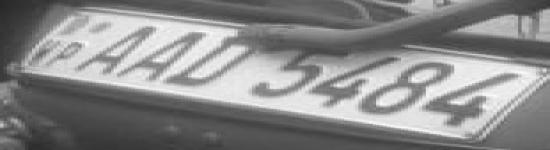4: (409, 65, 539, 134), (281, 49, 406, 110)
5: (238, 43, 371, 101)
8: (336, 54, 472, 121)
A: (106, 29, 218, 85), (70, 25, 171, 76)
D: (160, 32, 269, 93)
P: (38, 39, 91, 68)
W: (19, 37, 66, 65)
